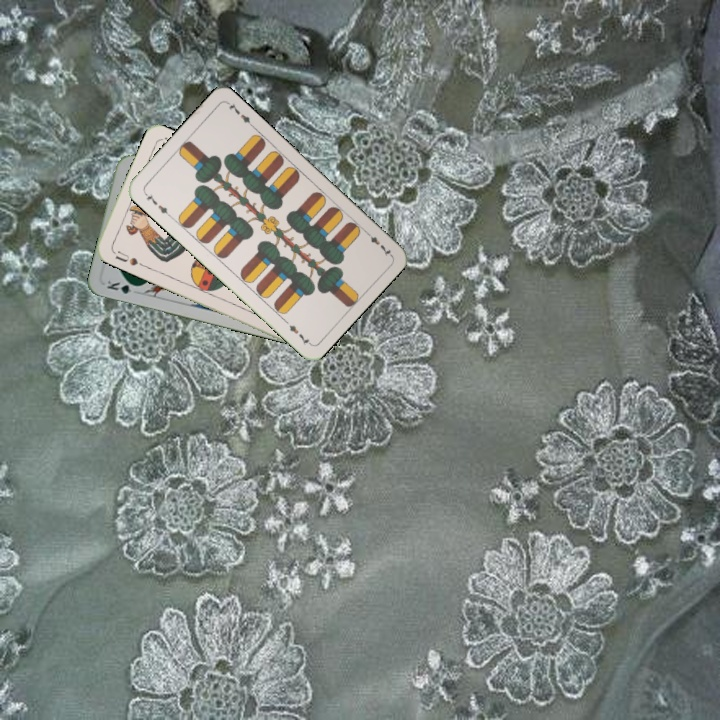E7: (140, 188, 173, 220), (361, 227, 394, 259)
GK: (103, 276, 142, 296)
SU: (111, 247, 141, 268)
